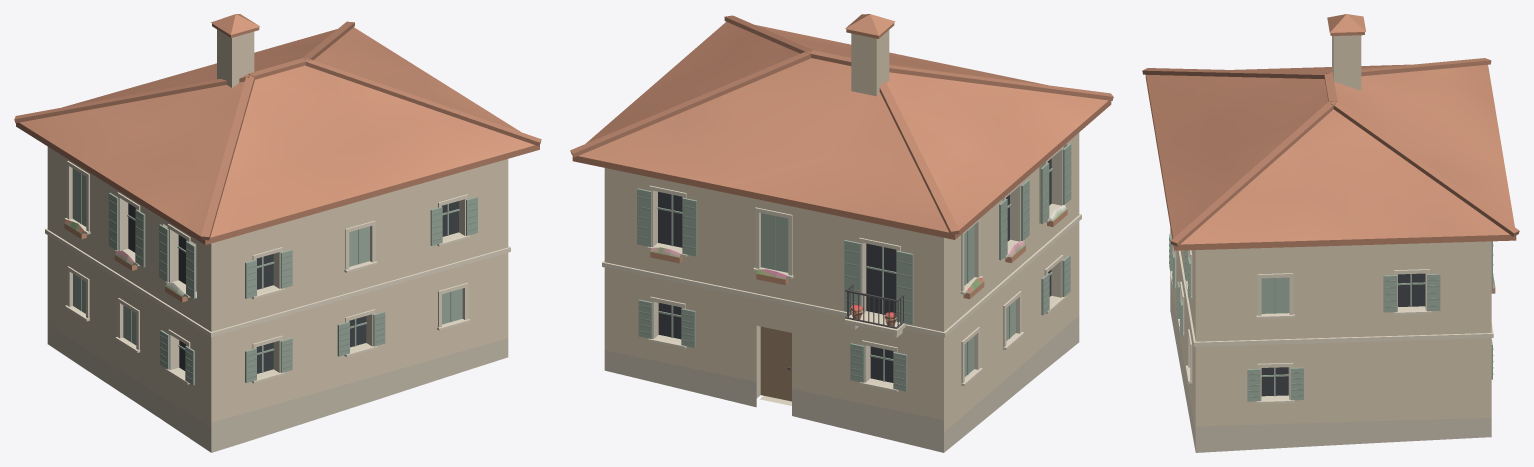
File: SM_BM_BVV_Farm_Cascine.glb
3 views of the same model, side by side, from view 1: azimuth 30°, elevation 25°; view 2: azimuth 150°, elevation 25°; view 3: azimuth 270°, elevation 25° (orthographic). The views are drawn at different scales.
Parts seen in each view (by area): view 1: SM_BM_BVV_Farm_Cascine; view 2: SM_BM_BVV_Farm_Cascine; view 3: SM_BM_BVV_Farm_Cascine.
Part boxes in pixels (bbox=[...]): SM_BM_BVV_Farm_Cascine: bbox=[14, 14, 541, 452]; SM_BM_BVV_Farm_Cascine: bbox=[570, 14, 1113, 452]; SM_BM_BVV_Farm_Cascine: bbox=[1142, 14, 1519, 452].
Bounding box in the file's own units: 13.31 × 11.79 × 11.45.
